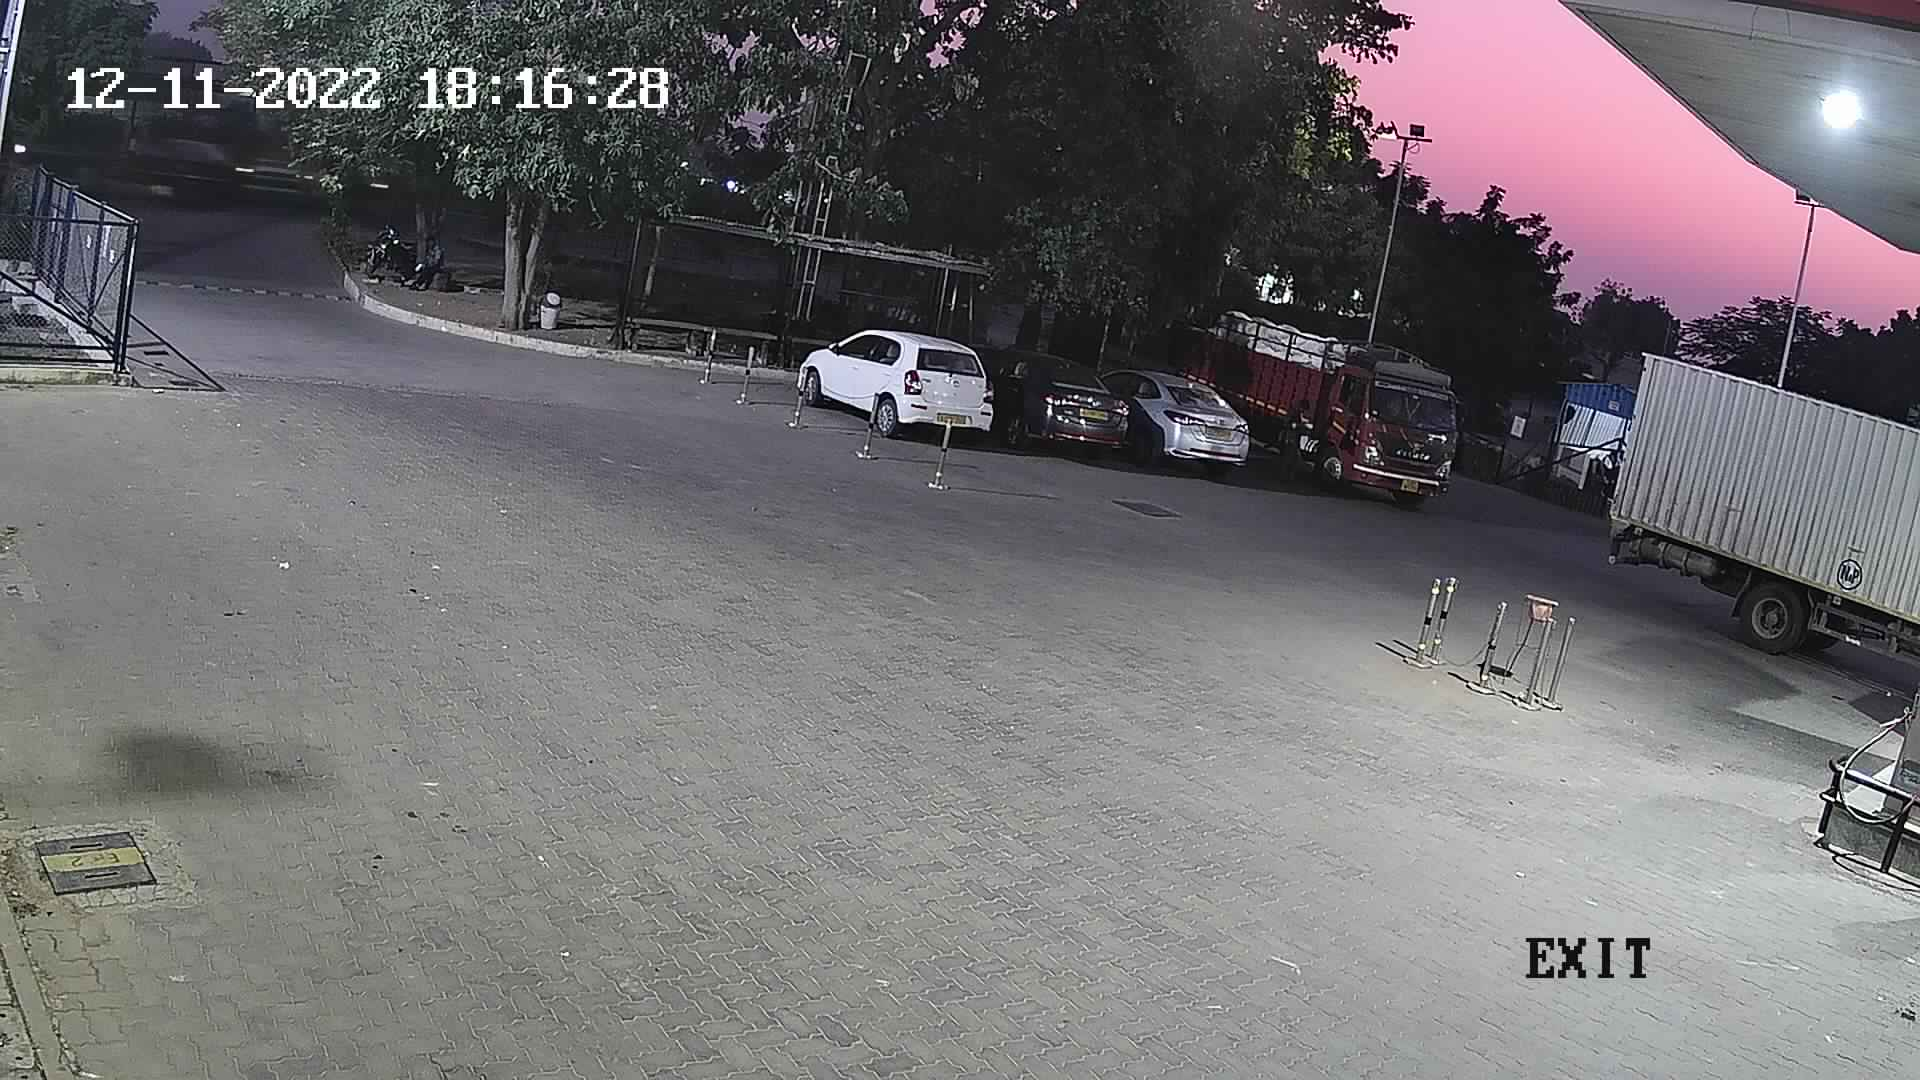Bike: (356, 214, 425, 287)
Car: (785, 323, 1006, 452), (1093, 353, 1265, 488), (972, 338, 1138, 467)
HMV: (1584, 342, 1917, 705), (1154, 274, 1470, 518)
